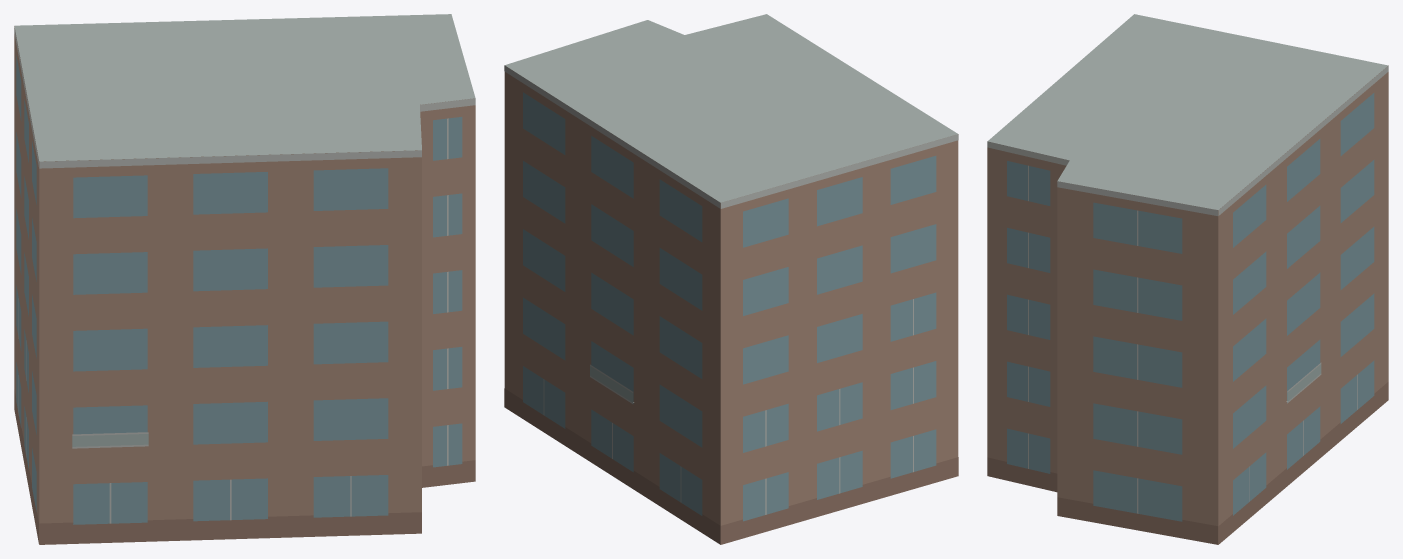
File: survey-upis-33030490.glb
The picture shows the model from 3 angles, left to right: view 1: azimuth 30°, elevation 25°; view 2: azimuth 150°, elevation 25°; view 3: azimuth 270°, elevation 25°; orthographic projection. The views are drawn at different scales.
Parts seen in each view (by area): view 1: survey-upis-33030490.tmp; view 2: survey-upis-33030490.tmp; view 3: survey-upis-33030490.tmp.
Boxes of the visible parts, left/top/right/bottom form: survey-upis-33030490.tmp: left=14, top=14, right=475, bottom=544; survey-upis-33030490.tmp: left=504, top=14, right=958, bottom=544; survey-upis-33030490.tmp: left=987, top=14, right=1388, bottom=544.
Size of the model in its own units: 16.85 by 13.4 by 14.56.
